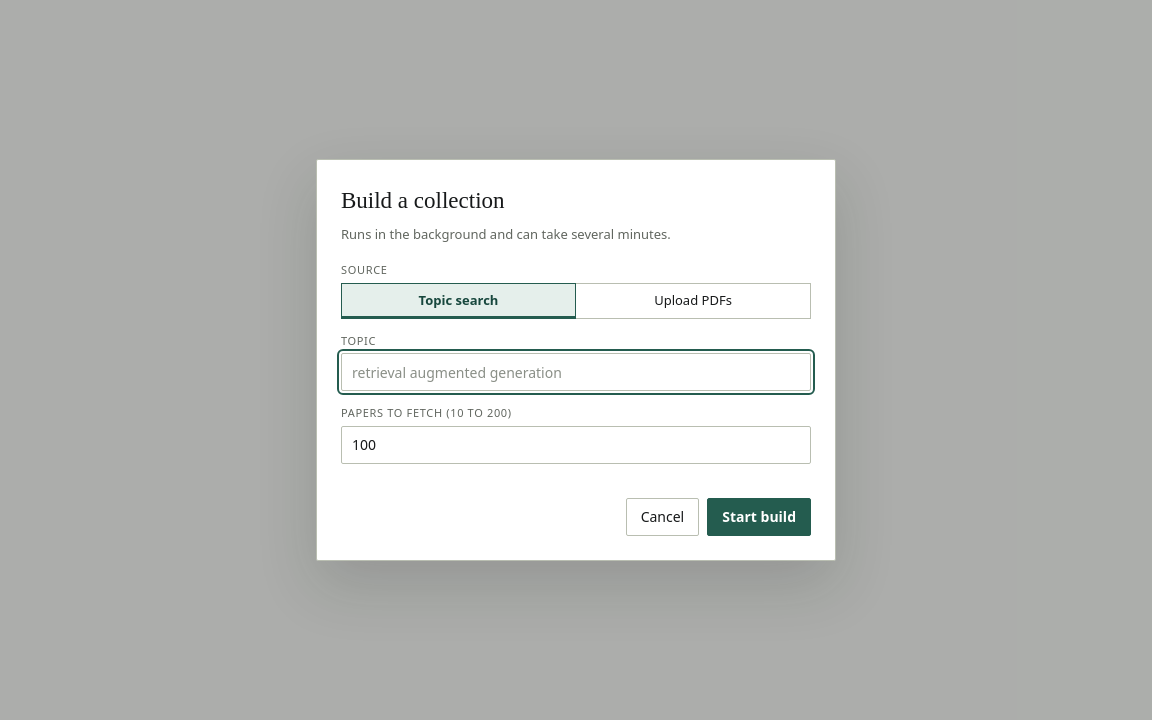
Scenario: build dialog › refuses a blank topic without calling the API
Click the button "Start build" at (759, 517), box [707,498,811,536]
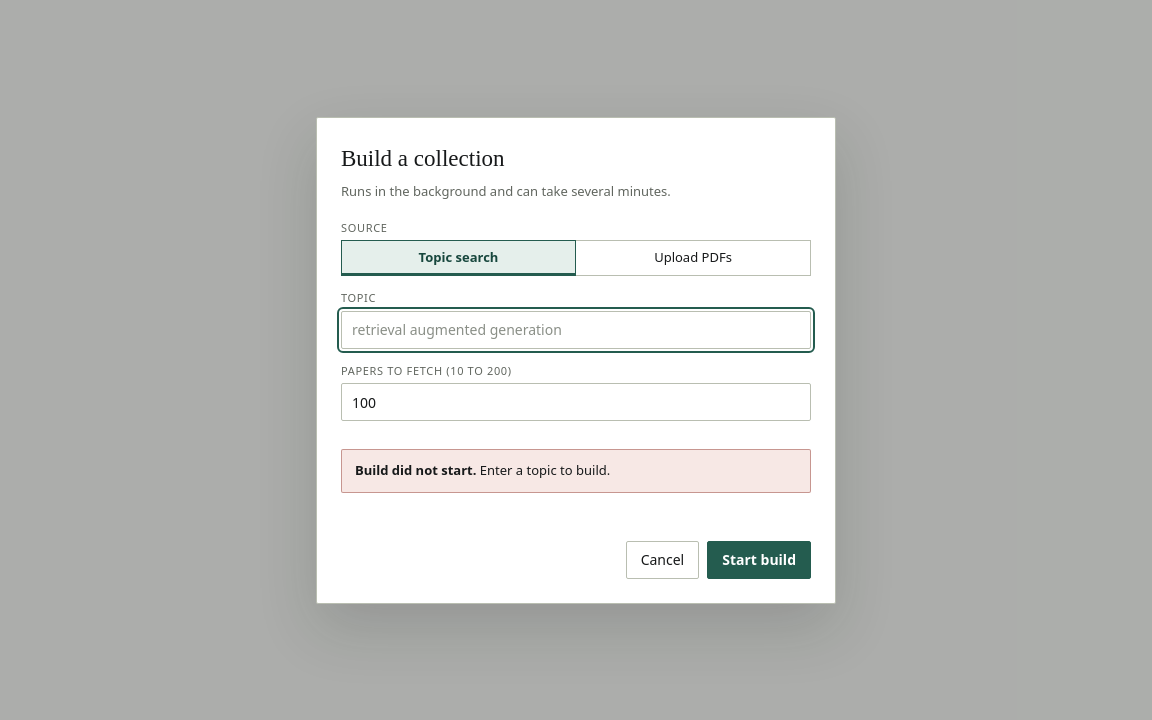
Expected: the text "Enter a topic to build." is shown, [480,461,610,479]
